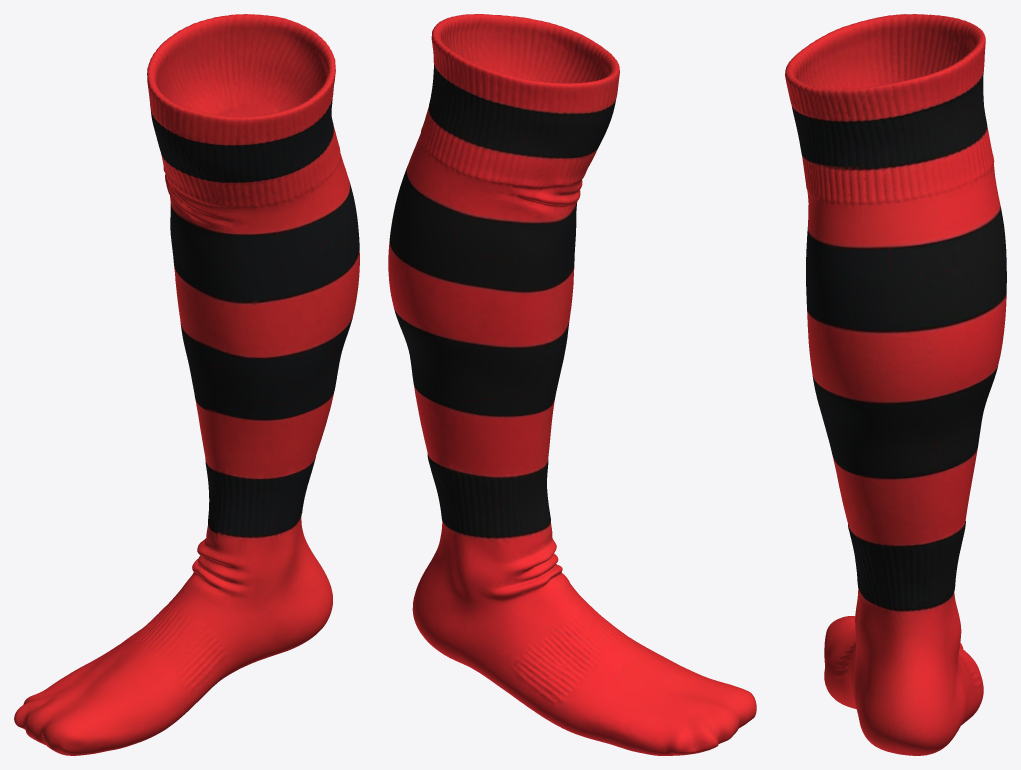
The model's file is chaussettes.glb.
3 renders of one model, left to right at view 1: azimuth 30°, elevation 25°; view 2: azimuth 150°, elevation 25°; view 3: azimuth 270°, elevation 25°, orthographic. The views are drawn at different scales.
Visible parts, largest first — view 1: mesh_node; view 2: mesh_node; view 3: mesh_node.
Part boxes in pixels (x1=…): mesh_node: x1=14, y1=14, x2=359, y2=755; mesh_node: x1=388, y1=14, x2=756, y2=755; mesh_node: x1=785, y1=14, x2=1006, y2=755.
Size of the model in its own units: 0.9889 by 1.9 by 0.519.
1 material, 1 textured.
